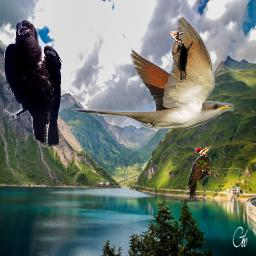Crow: (3, 19, 63, 150)
Cuckoo: (73, 17, 234, 129)
Woodpecker: (186, 144, 216, 201), (170, 31, 193, 84)
